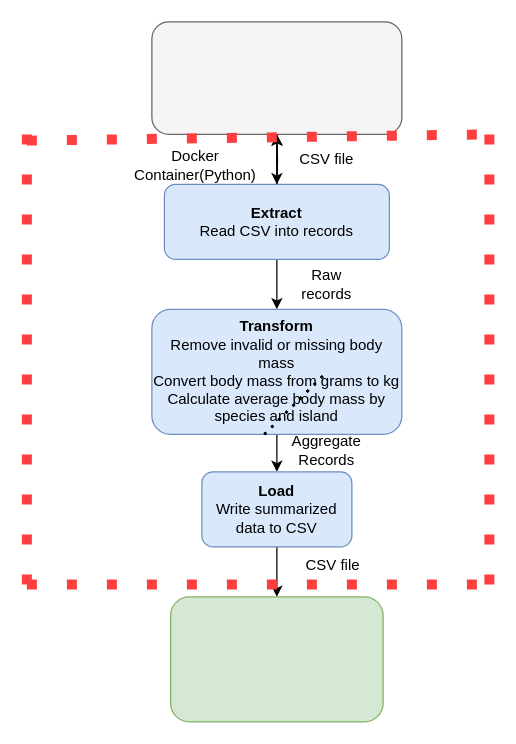
This 516x744 diagram has some shape labels left out. Here are the shapes that lost their labels. From the top down, the centre of each, then its label:
At pixel 276 77: "Input: Palmer Penguins Dataset data/penguins.csv 344 records".
At pixel 276 659: "Persistent Output output/penguin_summary.csv Host-mounted directory".
